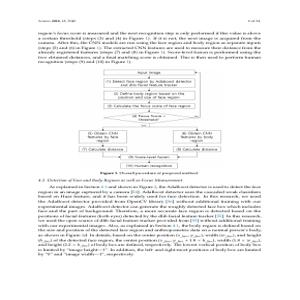diagram: (57, 66, 224, 170)
text: (34, 177, 264, 258), (33, 28, 263, 67)
